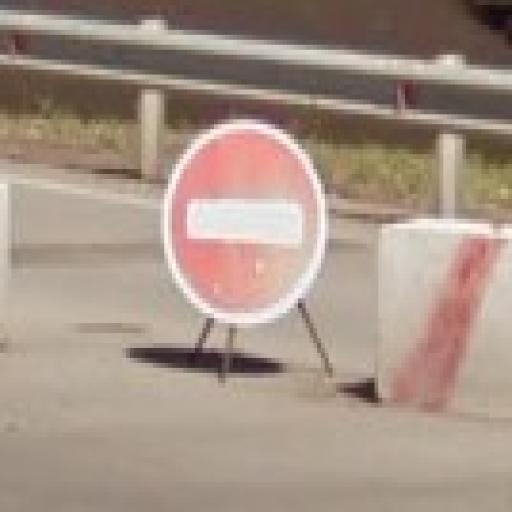traffic_sign: (162, 120, 330, 329)
